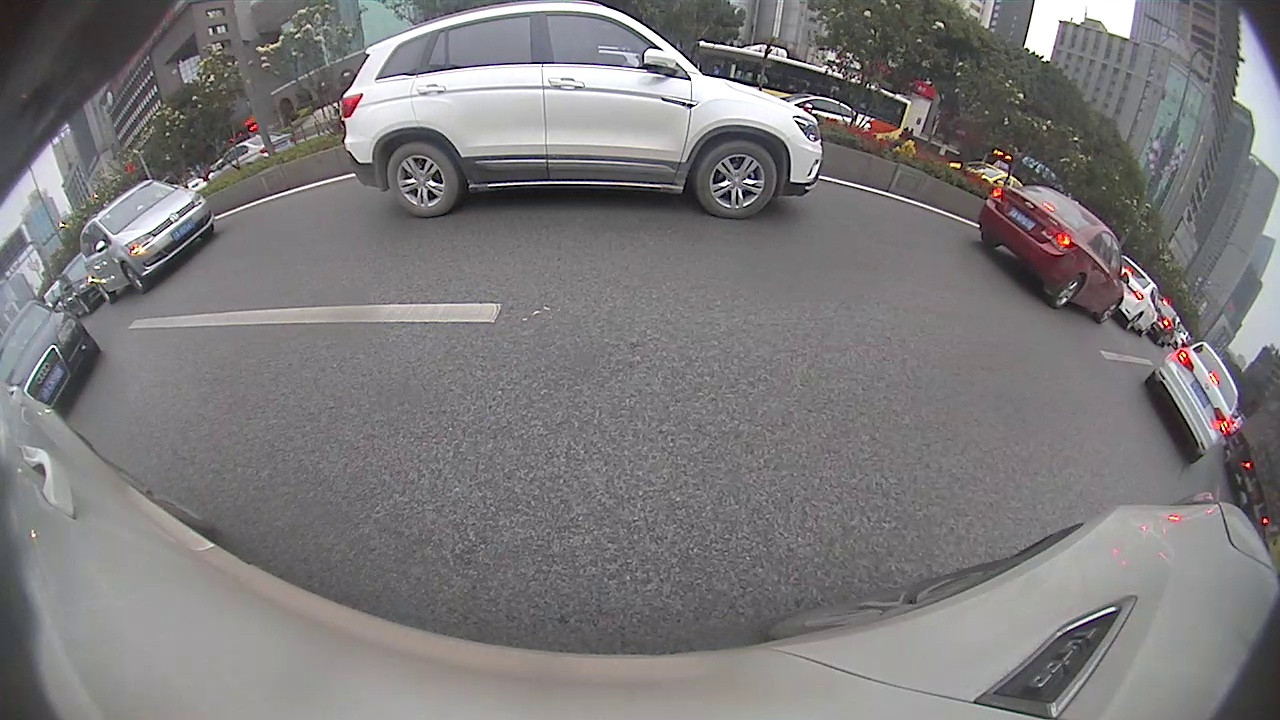car: (337, 3, 828, 220), (977, 183, 1130, 326), (77, 178, 218, 304), (1143, 337, 1240, 464), (0, 298, 101, 410)
front: (697, 140, 776, 218), (120, 261, 147, 295)
rear: (388, 142, 461, 217), (1050, 274, 1086, 310)
